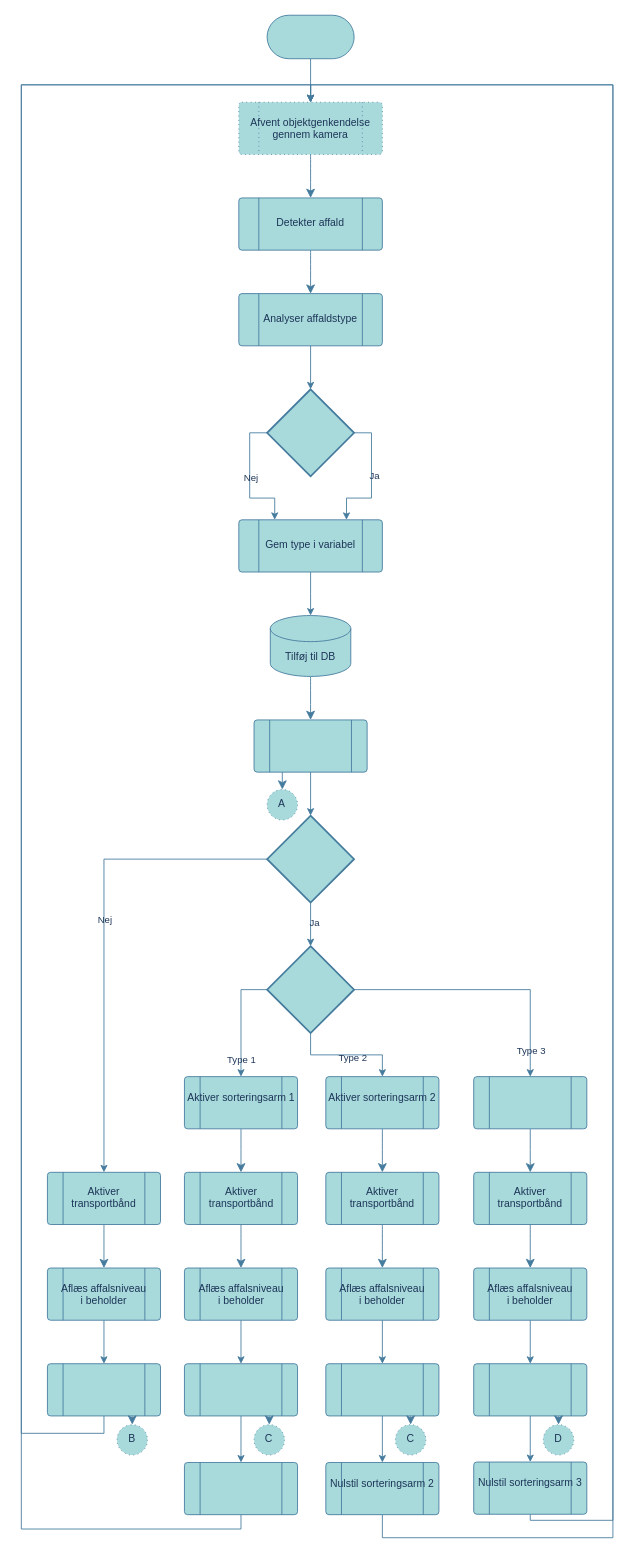
The diagram is 635 pixels wide and 1560 high, and some of its shapes have lost their labels. Each missing label, with the box of its shape:
Aktiver sorteringsarm 3: (473, 1076, 587, 1129)
Er affaldstypen genkendt?: (266, 814, 355, 903)
Er typen genkendt?: (266, 388, 355, 477)
Hvilken type er det?: (266, 945, 355, 1034)
Nulstil sorteringsarm 1: (184, 1462, 298, 1515)
SocketIO emit "Affaldsniveau" restaffald: (47, 1363, 161, 1416)
SocketIO emit "Affaldsniveau" Type 1: (184, 1363, 298, 1416)
SocketIO emit "Affaldsniveau" Type 2: (325, 1363, 439, 1416)
SocketIO emit "Affaldsniveau" Type 3: (473, 1363, 587, 1416)
SocketIO emit "DB opdateret": (253, 719, 367, 772)
Start ie. threading fra python script: (266, 14, 354, 59)
